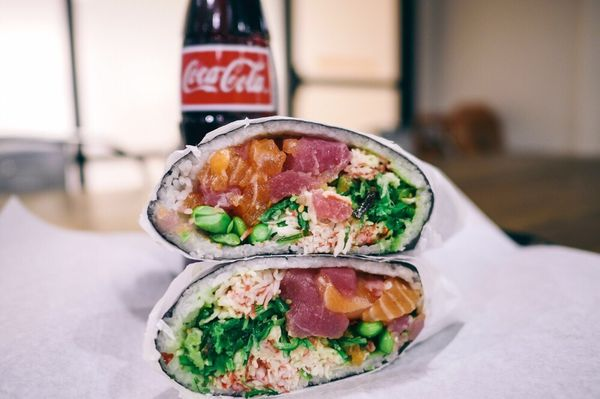soup: (152, 255, 426, 394)
